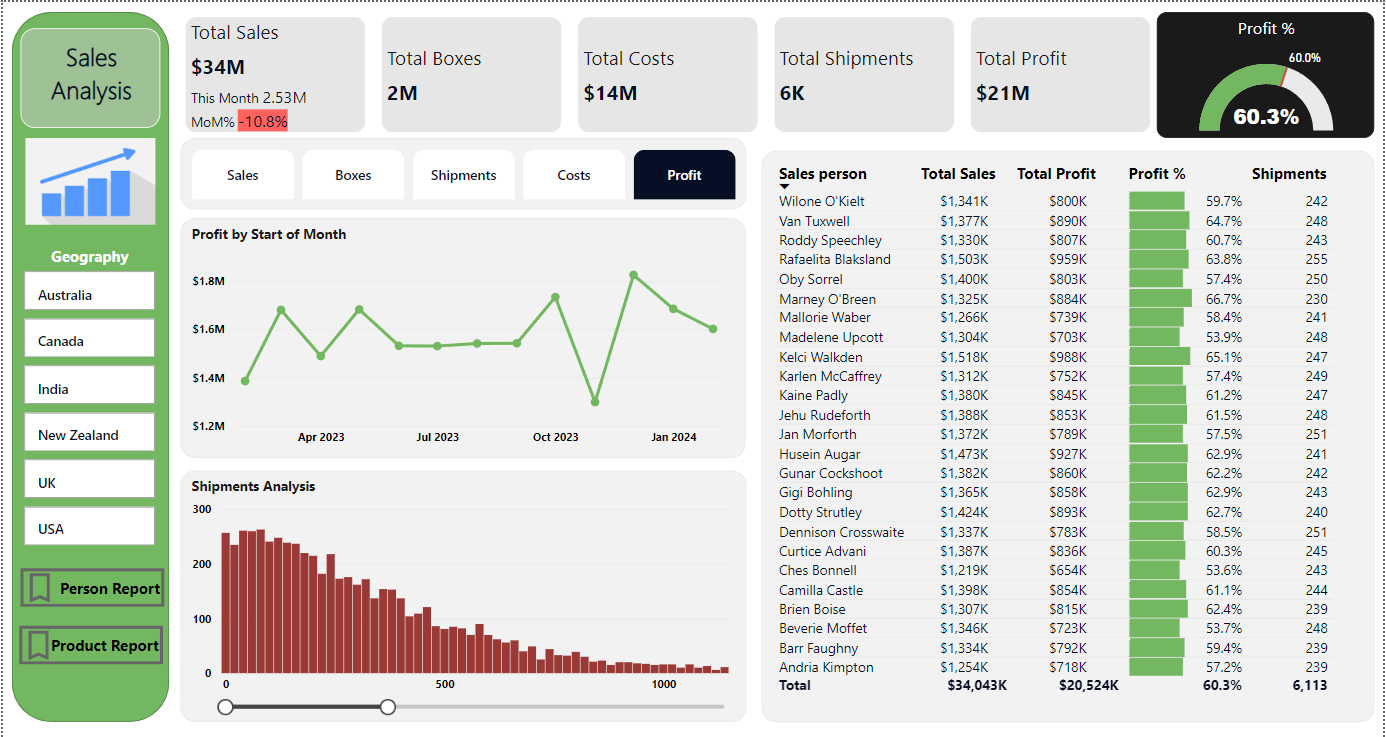

What the dashboard file says about the page in this screenshot:
{"tool":"powerbi","page":{"name":"Sales Report","canvas":[1350,720],"ordinal":0},"visuals":[{"type":"shape","box":[8.6,9.8,154.1,694.6],"z":0},{"type":"cardVisual","fields":{"Data":["_Measure Tables.Total Sales","_Measure Tables.Total Boxes","_Measure Tables.Total Costs","_Measure Tables.Total Shipments","_Measure Tables.Total Profit"]},"box":[173.6,9.8,955,123.5],"z":2000},{"type":"gauge","fields":{"Y":["_Measure Tables.Profit %"]},"box":[1128.7,9.8,212.8,123.5],"z":3000},{"type":"advancedSlicerVisual","fields":{"Values":["Measure Selector.Measure Selector"]},"box":[173.6,133.3,553.9,69.7],"z":4000},{"type":"lineChart","fields":{"Y":["_Measure Tables.Total Profit"],"Category":["calendar.Start of Month"]},"box":[173.6,211.6,552.7,234.8],"z":5000},{"type":"clusteredColumnChart","title":"Shipments Analysis","fields":{"Category":["shipments.Boxes (bins)"],"Y":["_Measure Tables.Total Shipments"]},"box":[173.6,458.6,553.9,245.8],"z":6000},{"type":"tableEx","fields":{"Values":["people.Sales person","_Measure Tables.Total Sales","_Measure Tables.Total Profit","_Measure Tables.Profit %","_Measure Tables.Total Shipments"]},"box":[742.3,145.5,599.2,558.8],"z":7000},{"type":"actionButton","box":[17.1,553.9,140.6,37.9],"z":9000},{"type":"actionButton","box":[15.9,610.2,140.6,37.9],"z":10000},{"type":"advancedSlicerVisual","title":"Geography","fields":{"Values":["locations.Geo"]},"box":[15.9,238.5,138.2,298.4],"z":11000},{"type":"textbox","box":[17.1,25.7,137,97.8],"z":12001},{"type":"image","box":[17.1,123.5,137,103.9],"z":12002}]}

Visuals, with their boxes in screenshot pixels (x1, y1, x2, y2), scaled from the page's 1350x720 canvas onto the 1386x737 screenshot:
shape: <box>9,10,167,721</box>
cardVisual - _Measure Tables.Total Sales x _Measure Tables.Total Boxes: <box>178,10,1159,136</box>
gauge - _Measure Tables.Profit %: <box>1159,10,1377,136</box>
advancedSlicerVisual - Measure Selector.Measure Selector: <box>178,136,747,208</box>
lineChart - _Measure Tables.Total Profit x calendar.Start of Month: <box>178,217,746,457</box>
"Shipments Analysis" clusteredColumnChart: <box>178,469,747,721</box>
tableEx - people.Sales person x _Measure Tables.Total Sales: <box>762,149,1377,721</box>
actionButton: <box>18,567,162,606</box>
actionButton: <box>16,625,161,663</box>
"Geography" advancedSlicerVisual: <box>16,244,158,550</box>
textbox: <box>18,26,158,126</box>
image: <box>18,126,158,233</box>
